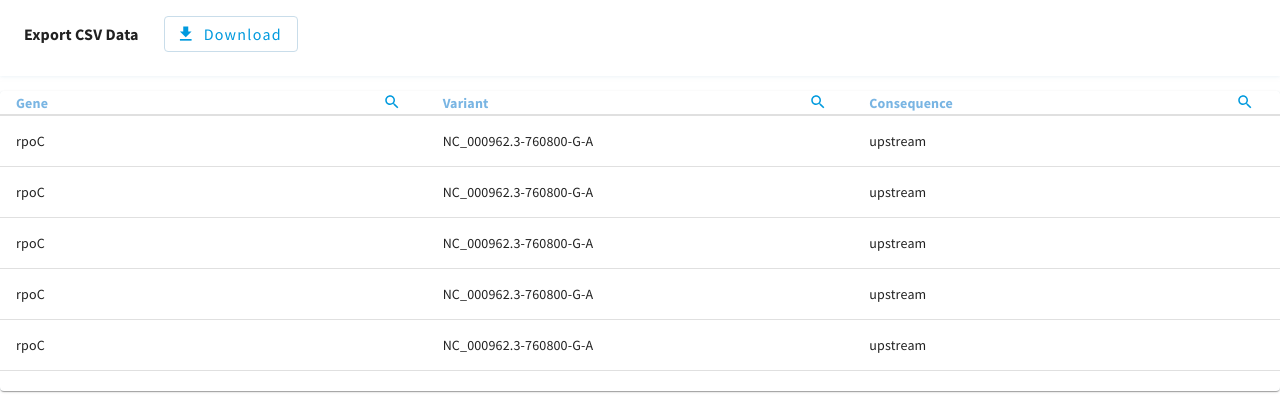
Scenario: DataGrid component test › close filter on Enter click
Click the button with test id "filter-button-geneName" at (392, 103), box [377, 92, 407, 114]
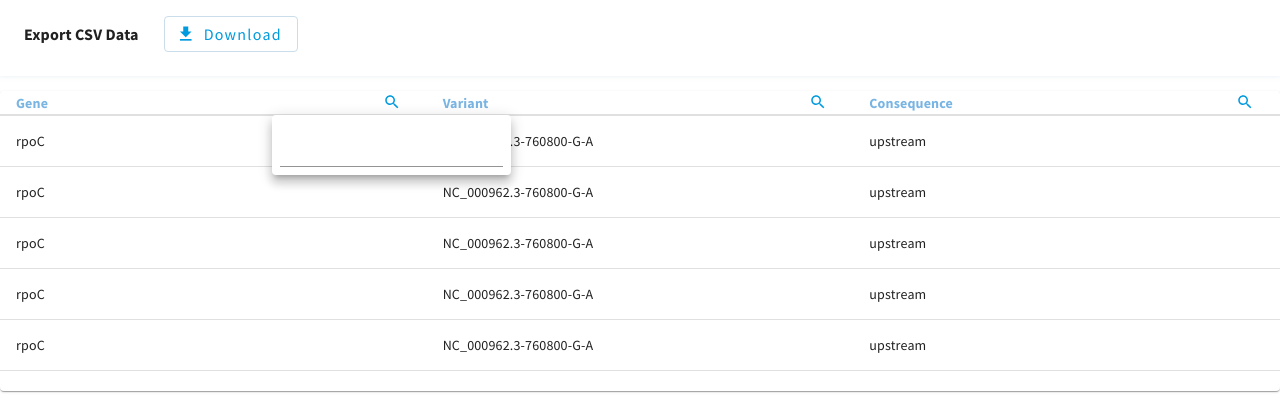
Press Enter in the element named "header-filter-input", box [296, 135, 479, 167]
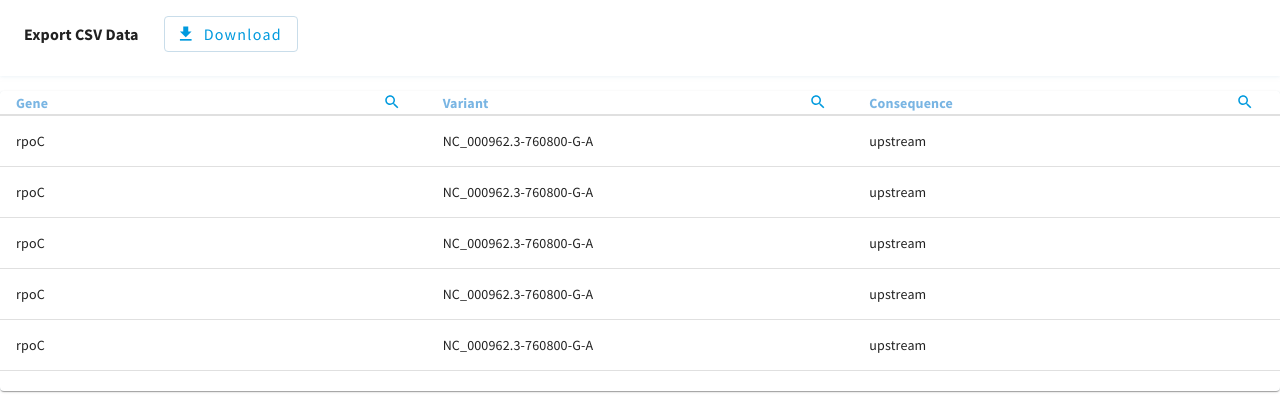
Result: the field labelled "header-filter-input" is gone
